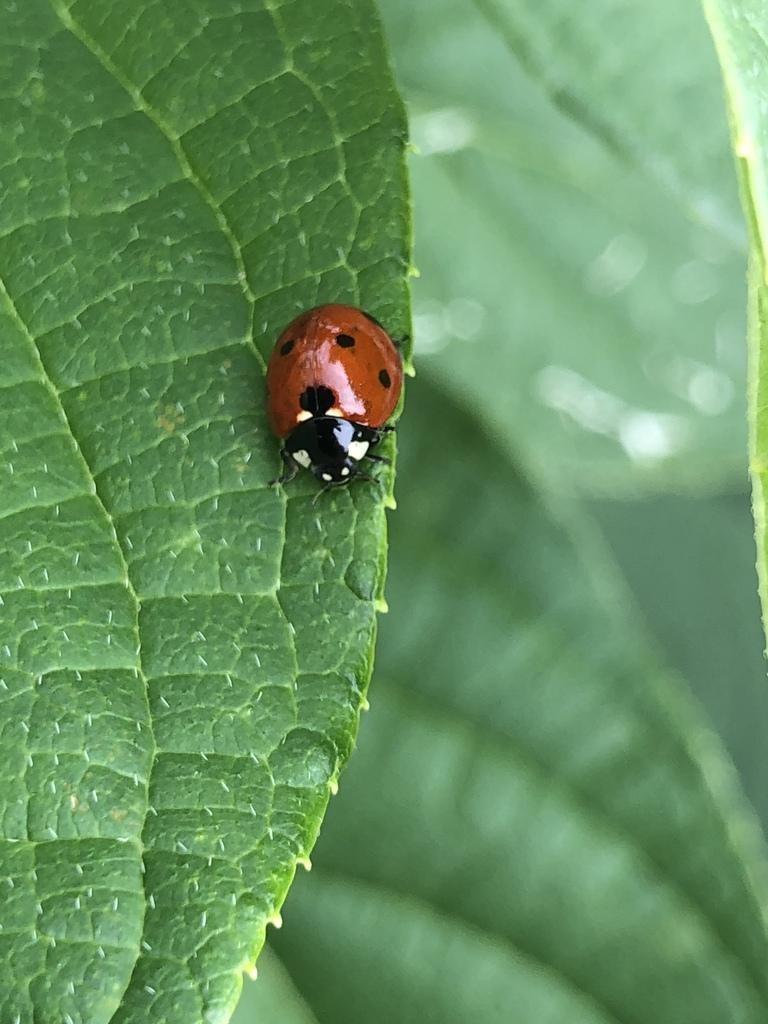ladybug: (261, 299, 415, 509)
